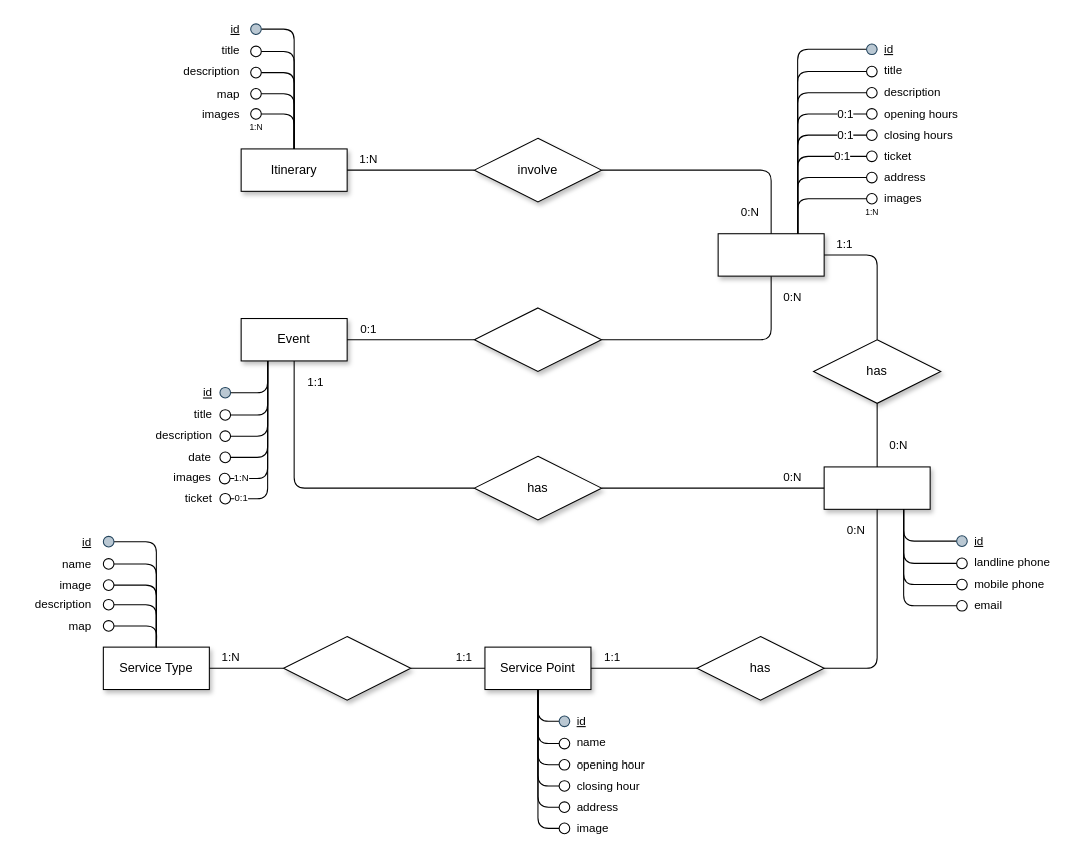
Some shapes in this 1085 by 856 pixel diagram are drawn without their labels. The centre of each missing label's shape, as x and y in pixels:
Contact: [878,489]
host: [538,341]
Is a: [347,669]
POI: [772,256]
